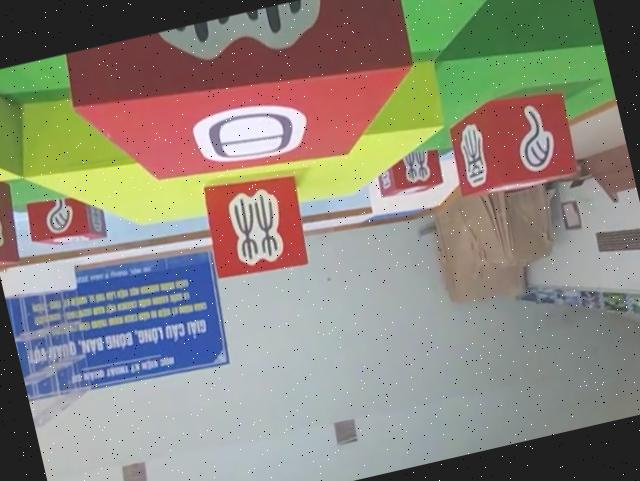R2 Fake: (59, 0, 440, 216), (439, 79, 584, 205), (195, 162, 319, 287), (18, 179, 112, 258), (369, 136, 449, 204), (0, 164, 30, 270)
